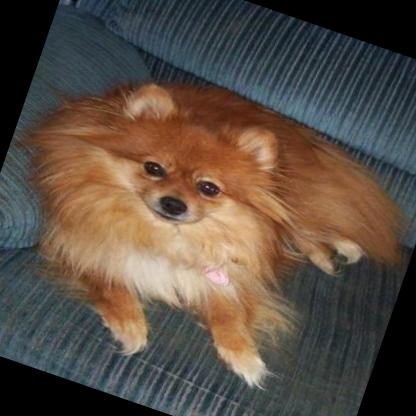Pomeranian: (0, 30, 416, 416)
